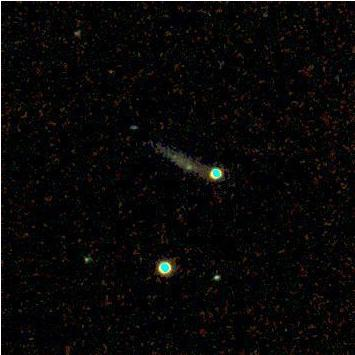star: (158, 143, 188, 173)
